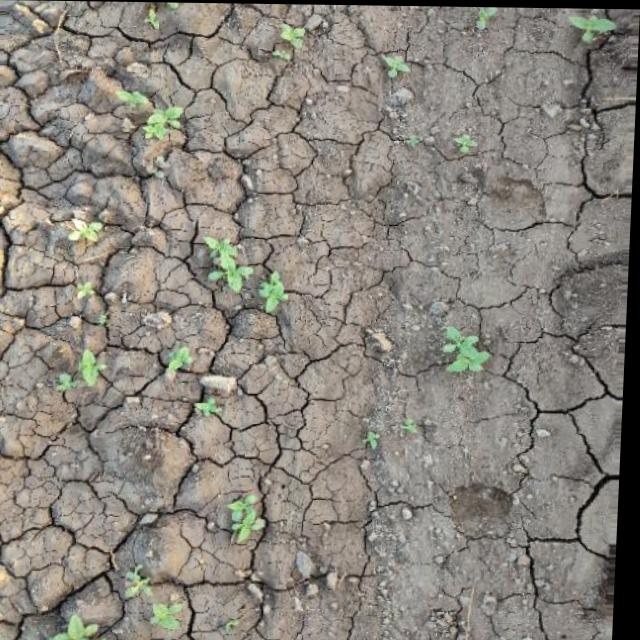crop: (93, 85, 203, 177), (197, 229, 294, 312), (440, 310, 498, 387), (51, 338, 114, 403), (222, 485, 278, 550), (60, 203, 115, 255), (190, 391, 234, 425)
